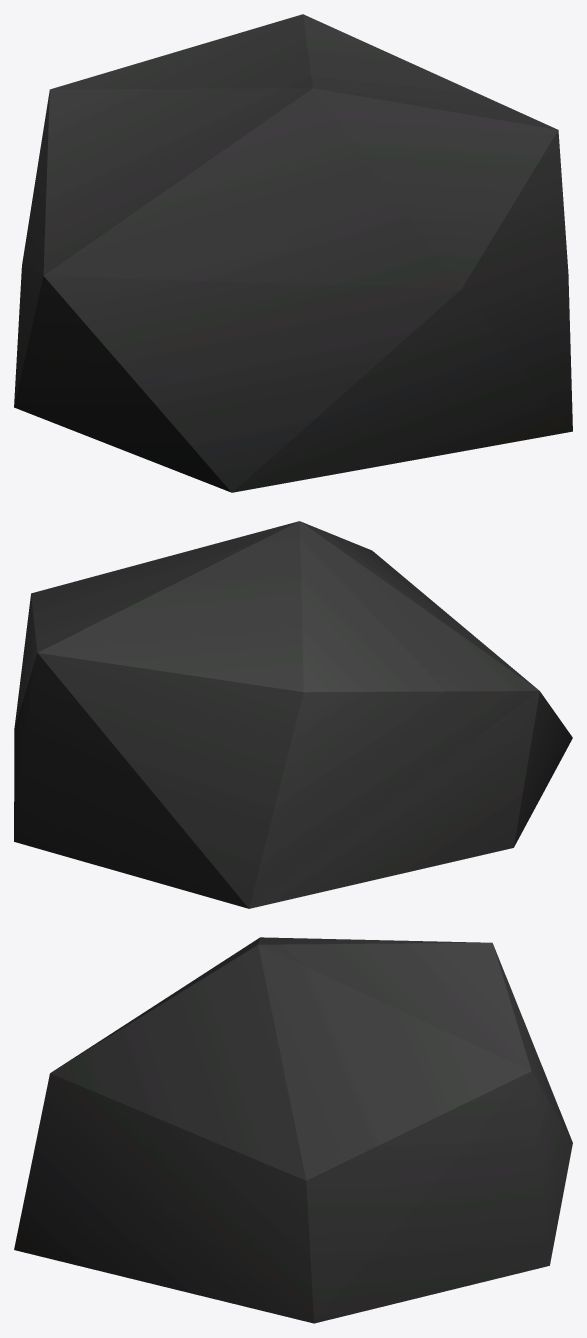
File: coal_ore.glb
3 renders of one model, top to bottom at view 1: azimuth 30°, elevation 25°; view 2: azimuth 150°, elevation 25°; view 3: azimuth 270°, elevation 25°, orthographic. The views are drawn at different scales.
Visible parts, largest first — view 1: SM_Coal_Piece2; view 2: SM_Coal_Piece2; view 3: SM_Coal_Piece2.
Boxes of the visible parts, <box> form: SM_Coal_Piece2: <box>14,14,572,492</box>; SM_Coal_Piece2: <box>14,521,572,908</box>; SM_Coal_Piece2: <box>14,937,572,1323</box>.
Size of the model in its own units: 0.3728 by 0.1784 by 0.3585.
Materials: 1 (1 with a texture image).
